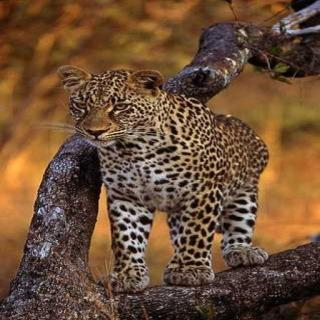Leopard: (68, 55, 280, 270)
